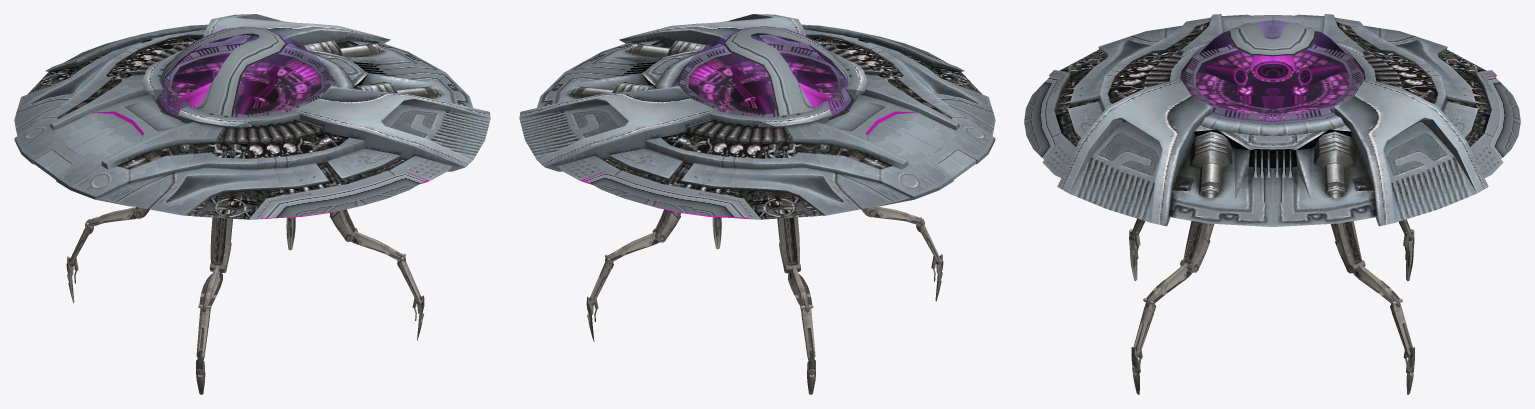
File: INTERCEPTOR.glb
3 renders of one model, left to right at view 1: azimuth 30°, elevation 25°; view 2: azimuth 150°, elevation 25°; view 3: azimuth 270°, elevation 25°, orthographic. The views are drawn at different scales.
Visible parts, largest first — view 1: Object002_Tex_0107_0_dds_0, Object003_Tex_0053_0_dds_0, Object002_Tex_0109_0_dds_0, Object002_Tex_0097_0_dds_0, Object002_Tex_0113_0_dds_0, claw003_Tex_0021_0_dds_0, Object002_Tex_0161_0_dds_0; view 2: Object002_Tex_0107_0_dds_0, Object003_Tex_0053_0_dds_0, Object002_Tex_0109_0_dds_0, Object002_Tex_0097_0_dds_0, Object002_Tex_0113_0_dds_0, claw003_Tex_0021_0_dds_0, Object002_Tex_0161_0_dds_0; view 3: Object002_Tex_0107_0_dds_0, Object003_Tex_0053_0_dds_0, Object002_Tex_0097_0_dds_0, Object002_Tex_0109_0_dds_0, claw003_Tex_0021_0_dds_0, Object002_Tex_0113_0_dds_0, Object002_Tex_0161_0_dds_0.
Boxes of the visible parts, x1,y1,x2,y2 form: Object002_Tex_0107_0_dds_0: (14, 14, 490, 219); Object003_Tex_0053_0_dds_0: (159, 26, 337, 116); Object002_Tex_0109_0_dds_0: (27, 36, 407, 219); Object002_Tex_0097_0_dds_0: (92, 33, 429, 219); Object002_Tex_0113_0_dds_0: (64, 26, 464, 219); claw003_Tex_0021_0_dds_0: (66, 207, 424, 394); Object002_Tex_0161_0_dds_0: (159, 44, 337, 117); Object002_Tex_0107_0_dds_0: (519, 14, 995, 219); Object003_Tex_0053_0_dds_0: (673, 26, 850, 116); Object002_Tex_0109_0_dds_0: (602, 36, 982, 219); Object002_Tex_0097_0_dds_0: (580, 33, 932, 218); Object002_Tex_0113_0_dds_0: (545, 26, 948, 219); claw003_Tex_0021_0_dds_0: (586, 206, 943, 394); Object002_Tex_0161_0_dds_0: (673, 44, 851, 117); Object002_Tex_0107_0_dds_0: (1042, 14, 1503, 226); Object003_Tex_0053_0_dds_0: (1180, 20, 1364, 123); Object002_Tex_0097_0_dds_0: (1049, 32, 1496, 123); Object002_Tex_0109_0_dds_0: (1055, 22, 1490, 176); claw003_Tex_0021_0_dds_0: (1129, 218, 1414, 394); Object002_Tex_0113_0_dds_0: (1024, 23, 1520, 225); Object002_Tex_0161_0_dds_0: (1181, 39, 1363, 123).
Bounding box in the file's own units: 3.24 × 2.2 × 3.22.
10 materials, 10 textured.
